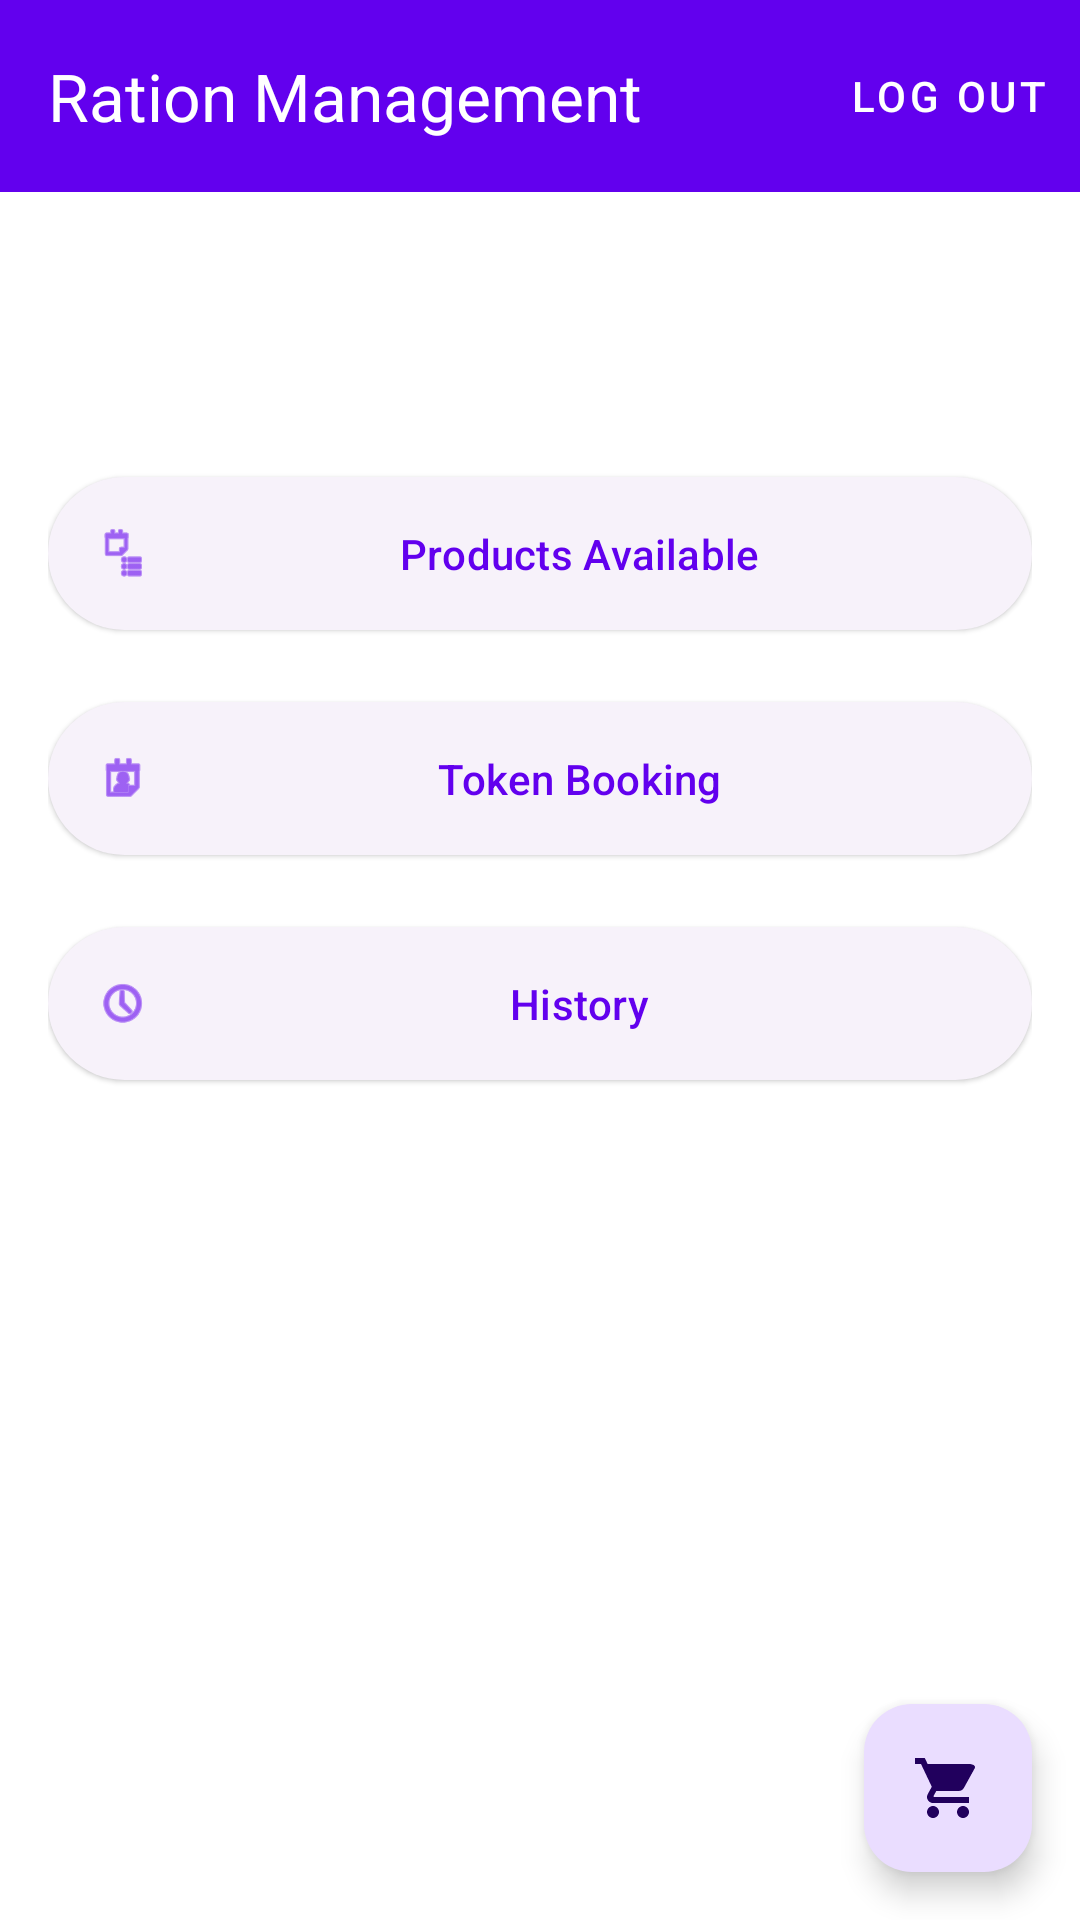

Locate icon controls on the screen. Image size 1080w x 1920h, boxes as rect(x1, y1, x2, y2).
Cart: rect(864, 1704, 1032, 1872)
